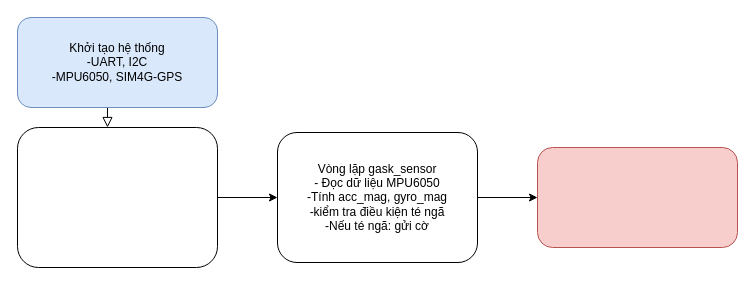
Image size: 755x285. Some labels were removed from this diagram. Each missing label, with the centre of its shape:
task_sim4_gps -Chờ cờ té ngã - Lấy dữ liệu GSP - Soạn và gửi SMS: (x=637, y=197)
Tạo các FreeRTOS Task -task_sensor -task_sim4g_gps -task_debug: (x=117, y=197)
